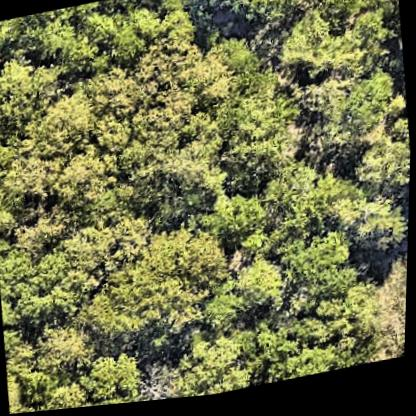tree-top: (76, 216, 242, 360), (212, 66, 305, 200), (260, 163, 367, 255), (258, 301, 368, 390), (124, 38, 207, 147), (0, 234, 91, 330), (38, 5, 148, 79), (273, 13, 356, 95), (133, 140, 210, 225), (20, 91, 102, 166), (0, 54, 60, 156), (338, 189, 410, 269), (289, 235, 358, 317), (55, 146, 124, 228), (0, 144, 61, 233), (85, 67, 145, 156), (176, 340, 262, 402), (330, 73, 399, 150), (360, 271, 409, 370), (85, 340, 150, 409), (32, 321, 94, 390), (222, 0, 317, 41), (210, 193, 270, 255), (229, 259, 289, 319), (145, 0, 210, 52), (136, 358, 186, 405), (319, 0, 374, 35)
